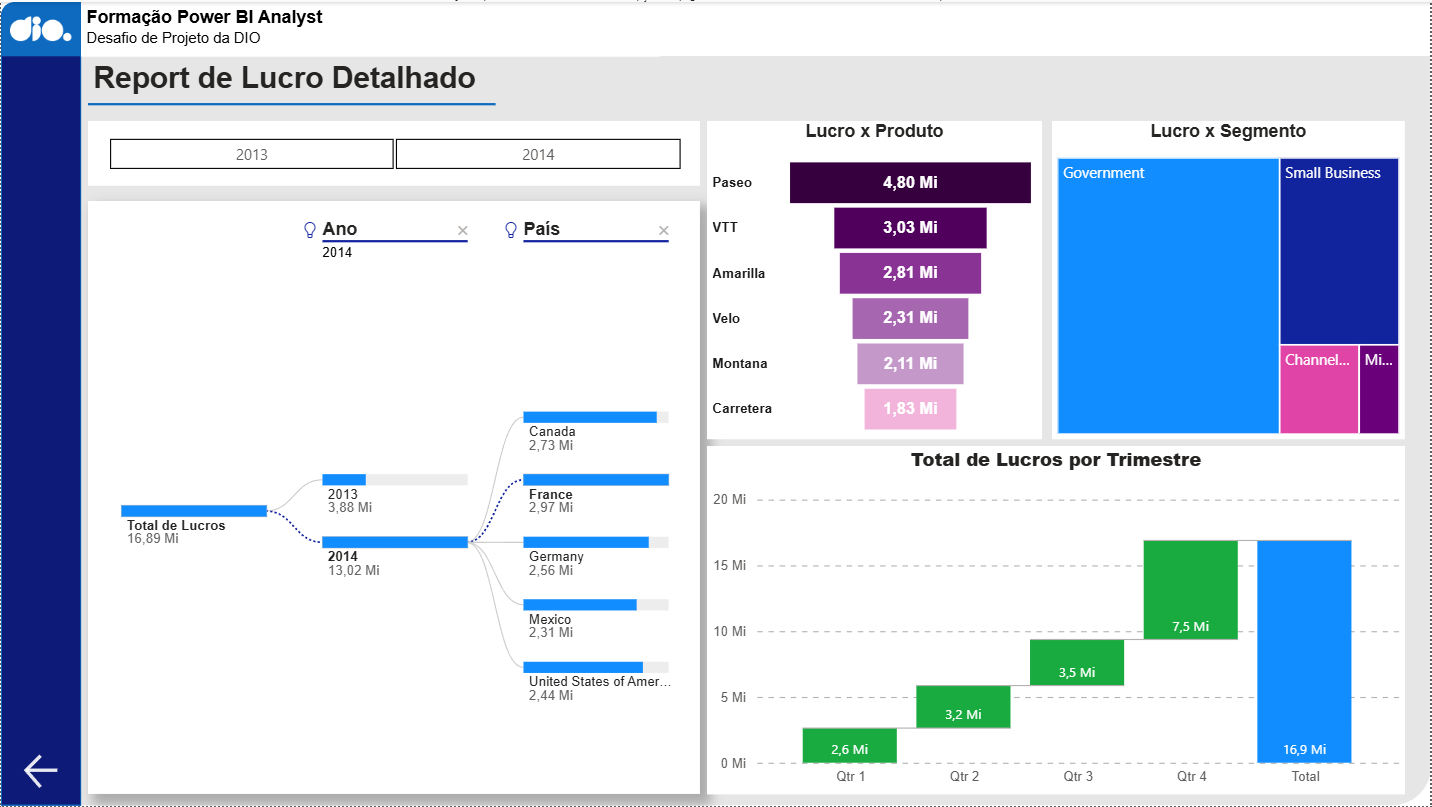

The dashboard page shown, as its layout file describes it:
{"tool":"powerbi","page":{"name":"Report Lucro Detalhado","canvas":[1280,720],"ordinal":1},"visuals":[{"type":"shape","box":[11.3,0,1269.2,719.5],"z":0},{"type":"textbox","box":[77.7,48.2,452,46],"z":0,"group":"g1"},{"type":"shape","box":[0,0,72,719.8],"z":1000},{"type":"shape","box":[77.7,77.2,365,29],"z":1000,"group":"g1"},{"type":"shape","box":[0,0,72,48.6],"z":2000},{"type":"image","title":"Dio","box":[7.8,0,55.4,48.6],"z":3000},{"type":"shape","box":[72,0,1208,48.6],"z":4000},{"type":"textbox","box":[72,0,518.4,48.6],"z":5000},{"type":"group","id":"g1","title":"Title Report","box":[77.7,48.2,452.6,58],"z":6000},{"type":"actionButton","box":[13,669,45,40],"z":7000},{"type":"shape","box":[77.7,106.3,548,58],"z":8000},{"type":"slicer","fields":{"Values":["financials.Date.Variation.Hierarquia de datas.Ano"]},"box":[71.8,115.1,560.8,40.3],"z":9000},{"type":"decompositionTreeVisual","fields":{"Analyze":["Sum(financials.Profit)"],"ExplainBy":["financials.Date.Variation.Hierarquia de datas.Ano","financials.Country"]},"box":[77.7,178.1,548,531.3],"z":10000},{"type":"waterfallChart","fields":{"Category":["financials.Date.Variation.Hierarquia de datas.Trimestre"],"Y":["Sum(financials.Profit)"]},"box":[632.2,397.6,625.1,311.6],"z":11000},{"type":"treemap","title":"Lucro x Segmento","fields":{"Values":["Sum(financials.Profit)"],"Group":["financials.Segment"]},"box":[941.6,106.3,315.8,285.3],"z":12000},{"type":"funnel","title":"Lucro x Produto","fields":{"Category":["financials.Product"],"Y":["Sum(financials.Profit)"]},"box":[632.2,106.6,300.1,285.3],"z":13000}]}

Visuals, with their boxes in screenshot pixels (x1, y1, x2, y2), scaled from the page's 1280x720 canvas onto the 1432x807 screenshot:
shape: BBox(13, 0, 1431, 806)
textbox: BBox(87, 54, 593, 106)
shape: BBox(0, 0, 81, 806)
shape: BBox(87, 87, 495, 119)
shape: BBox(0, 0, 81, 54)
"Dio" image: BBox(9, 0, 71, 54)
shape: BBox(81, 0, 1431, 54)
textbox: BBox(81, 0, 661, 54)
"Title Report" group: BBox(87, 54, 593, 119)
actionButton: BBox(15, 750, 65, 795)
shape: BBox(87, 119, 700, 184)
slicer - financials.Date.Variation.Hierarquia de datas.Ano: BBox(80, 129, 708, 174)
decompositionTreeVisual - Sum(financials.Profit) x financials.Date.Variation.Hierarquia de datas.Ano: BBox(87, 200, 700, 795)
waterfallChart - financials.Date.Variation.Hierarquia de datas.Trimestre x Sum(financials.Profit): BBox(707, 446, 1407, 795)
"Lucro x Segmento" treemap: BBox(1053, 119, 1407, 439)
"Lucro x Produto" funnel: BBox(707, 119, 1043, 439)
